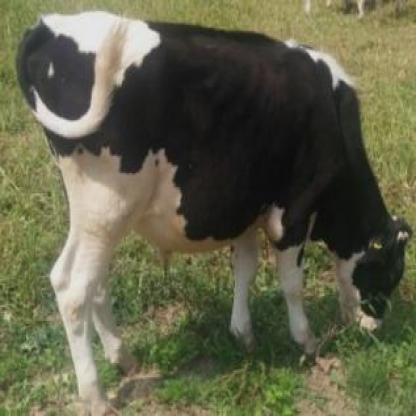cow: (17, 11, 412, 416)
